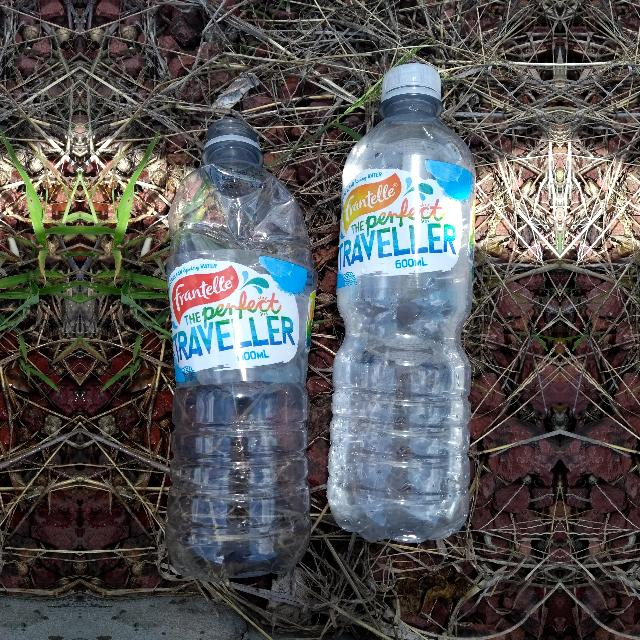Plastic: (154, 95, 322, 599), (320, 39, 482, 557)
